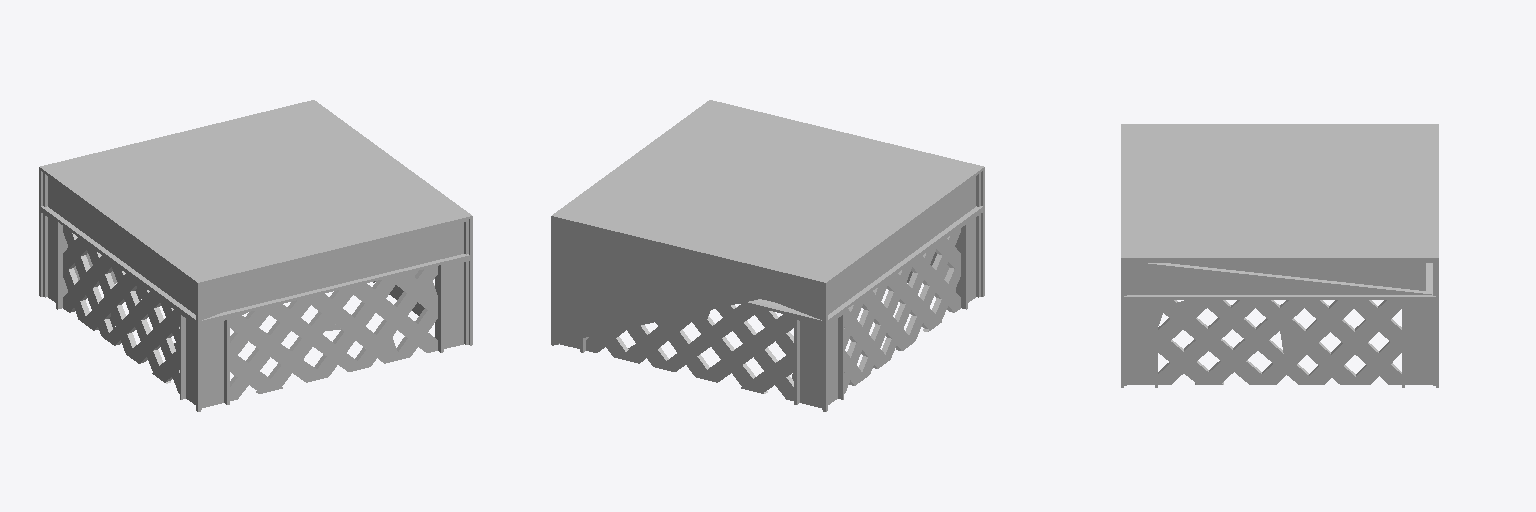
Rendered from Half_Crate__188611_.obj.
The picture shows the model from 3 angles: view 1: azimuth 30°, elevation 25°; view 2: azimuth 150°, elevation 25°; view 3: azimuth 270°, elevation 25°; orthographic projection.
Parts seen in each view (by area): view 1: Half_Crate__188611__temp_Half_Crate__188611_.002; view 2: Half_Crate__188611__temp_Half_Crate__188611_.002; view 3: Half_Crate__188611__temp_Half_Crate__188611_.002.
Part boxes in pixels (x1,y1,x2,y2): Half_Crate__188611__temp_Half_Crate__188611_.002: (39,100,472,411); Half_Crate__188611__temp_Half_Crate__188611_.002: (551,100,984,411); Half_Crate__188611__temp_Half_Crate__188611_.002: (1121,124,1438,387).
Bounding box in the file's own units: 0.3334 × 0.15 × 0.3334.